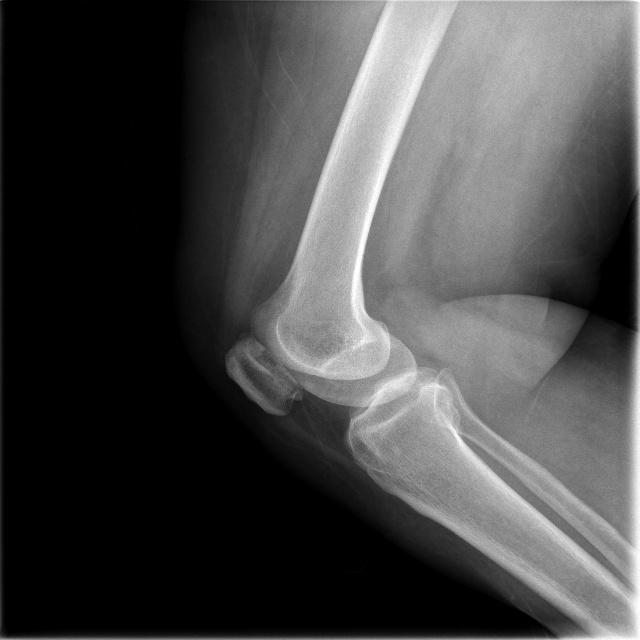Knee: (217, 284, 461, 463)
